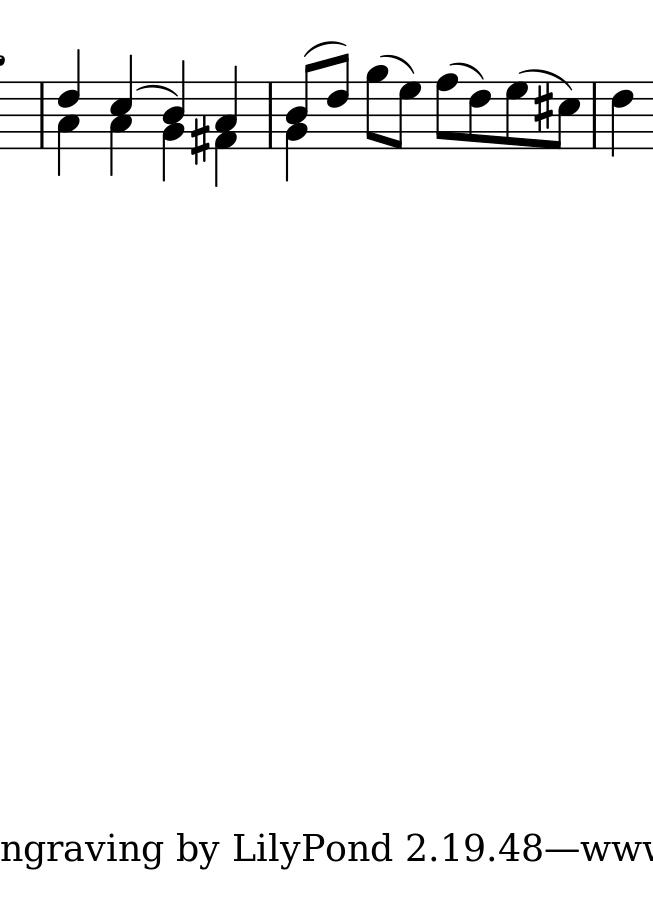4_1_3: (214, 66, 240, 190)
4_2_4: (161, 61, 186, 186)
4_3_5: (108, 53, 134, 180)
4_3_6: (56, 48, 82, 178)
4_6: (611, 81, 636, 158)
8_5: (552, 81, 581, 150)
8_6: (327, 54, 350, 150), (468, 81, 493, 150)
8_7: (389, 80, 423, 150), (505, 80, 531, 150)
8_8: (435, 72, 459, 150)
8_9: (364, 64, 388, 150)
Sharp: (188, 115, 211, 168), (531, 81, 554, 134)
Single_barline: (34, 83, 51, 147), (263, 84, 279, 147), (587, 82, 602, 147)
Slur: (519, 66, 573, 91), (381, 53, 417, 74), (450, 61, 486, 79), (304, 40, 345, 55), (139, 83, 176, 99)
